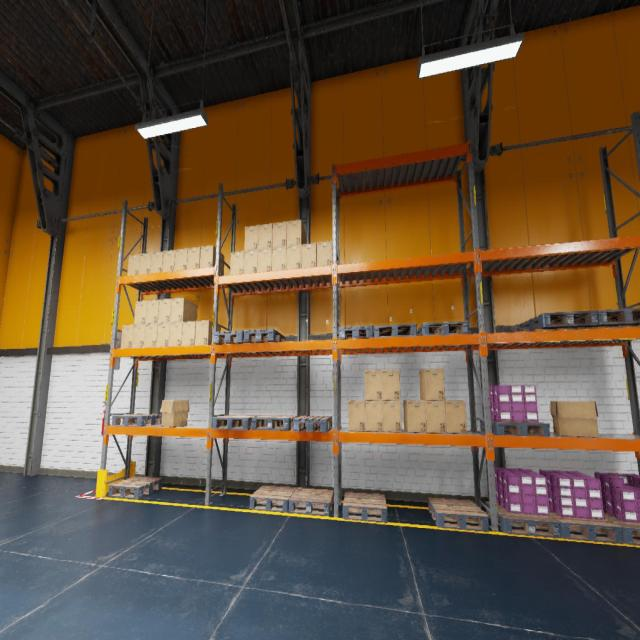box: (550, 401, 599, 437), (419, 368, 445, 400), (160, 399, 189, 427), (403, 400, 427, 433), (445, 400, 467, 434), (424, 400, 446, 433), (200, 245, 224, 274), (170, 297, 197, 322), (195, 320, 220, 345), (382, 369, 400, 400), (383, 401, 401, 432), (365, 401, 383, 432), (348, 400, 365, 431), (365, 370, 382, 400), (287, 220, 306, 246), (181, 320, 196, 346), (272, 221, 287, 247), (317, 241, 332, 266), (286, 244, 301, 269), (302, 242, 316, 268), (258, 223, 272, 249), (244, 225, 258, 251), (257, 248, 272, 272), (156, 322, 170, 347), (272, 246, 286, 270), (146, 299, 159, 324), (120, 325, 134, 348), (244, 250, 258, 273), (230, 251, 244, 274), (169, 322, 182, 346), (132, 324, 145, 348), (158, 299, 171, 323), (144, 324, 157, 347), (134, 301, 147, 324), (187, 247, 200, 269), (175, 248, 188, 270), (162, 250, 175, 272), (150, 251, 163, 273), (127, 254, 140, 275), (139, 252, 151, 274)
pallets: (485, 501, 561, 538), (550, 510, 623, 544), (428, 497, 489, 532), (520, 310, 598, 331), (342, 491, 388, 523), (249, 484, 297, 512), (289, 487, 333, 516), (108, 476, 162, 499), (604, 512, 640, 545), (584, 308, 640, 328), (480, 420, 550, 436), (212, 414, 261, 430), (417, 322, 469, 336), (293, 415, 332, 432), (251, 416, 298, 430), (243, 328, 286, 342), (112, 414, 161, 426), (374, 324, 417, 337), (339, 325, 373, 339), (213, 330, 245, 344)
